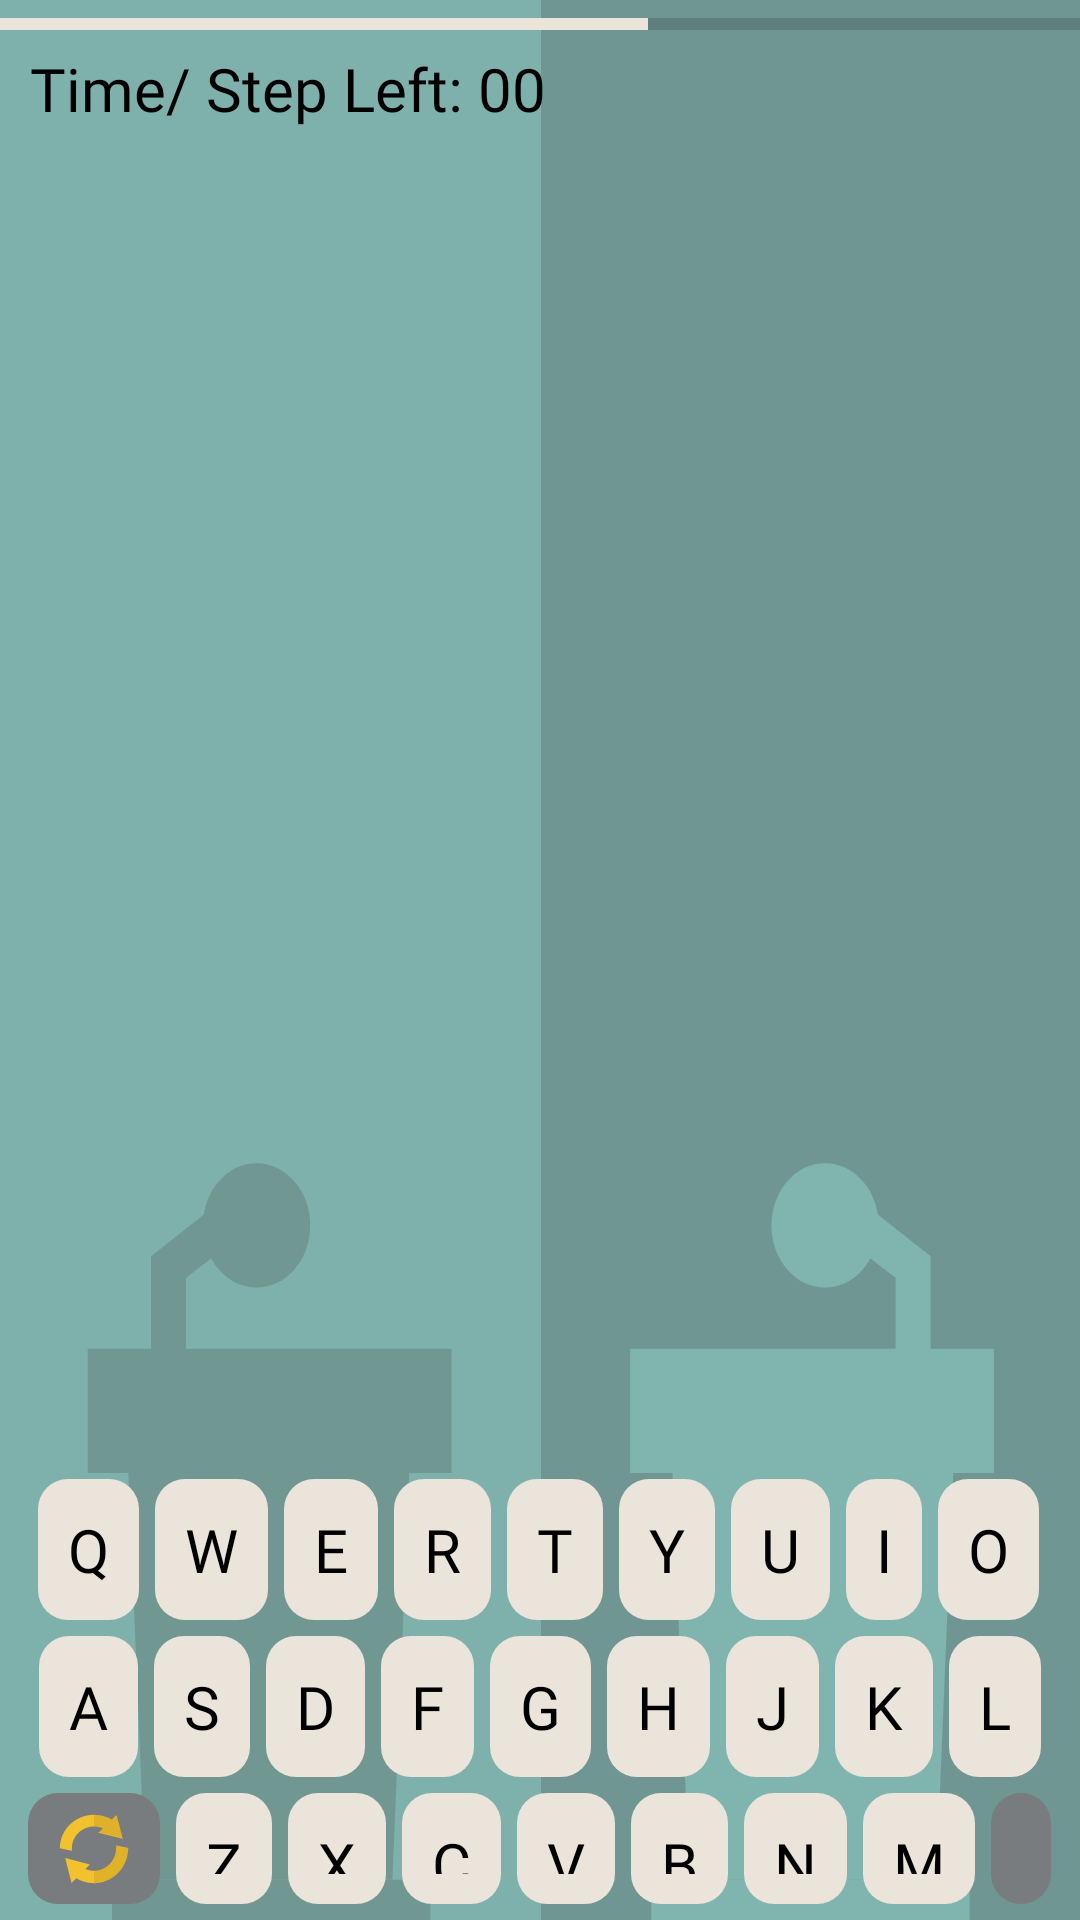

Icon click points for this 1080 × 1920 phone screenshot, format (x,y):
restart: (94,1848)
